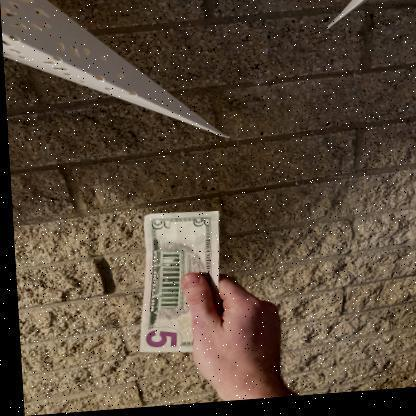dollar_back: (127, 212, 224, 358)
